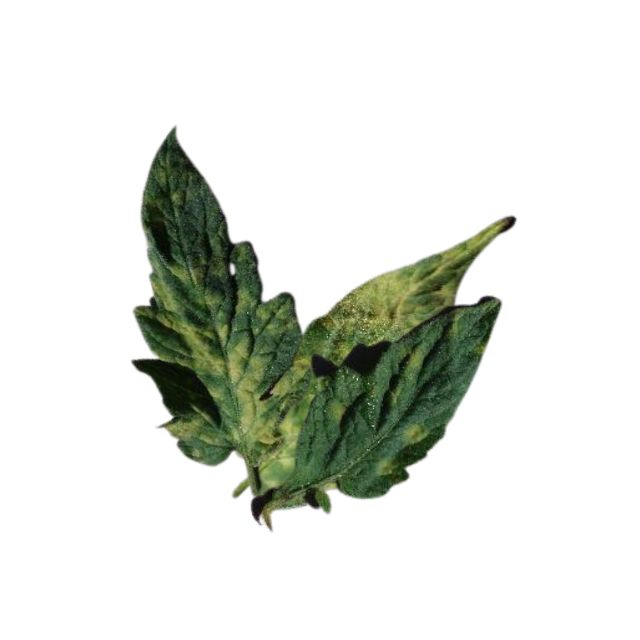Leaf_Mold: (134, 261, 312, 487), (317, 221, 532, 345), (161, 415, 205, 443), (323, 397, 348, 427), (401, 420, 433, 443), (373, 460, 394, 477)
